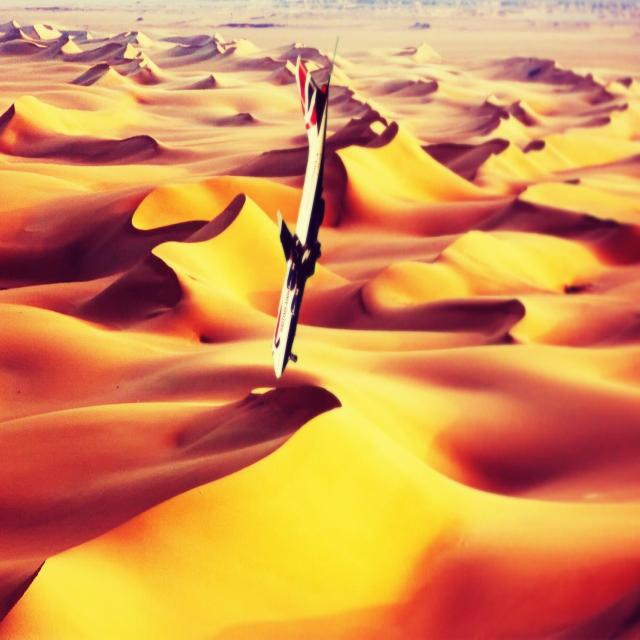airplane: (271, 35, 339, 379)
